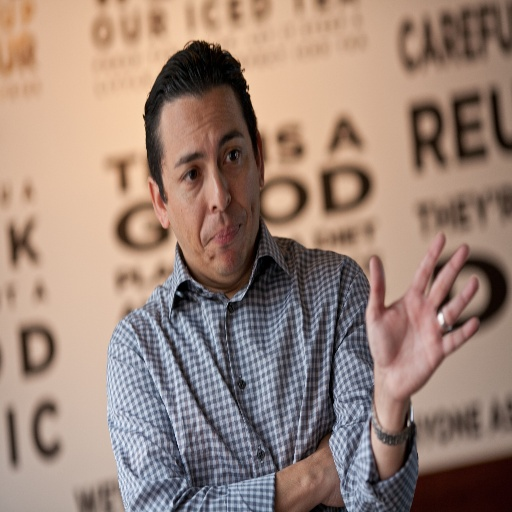hand: (363, 230, 480, 405), (311, 432, 346, 508)
